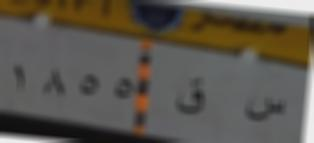1: (9, 60, 28, 96)
5: (78, 67, 100, 102), (111, 74, 134, 106)
8: (38, 66, 67, 105)
qaaf: (175, 75, 208, 119)
seen: (242, 88, 287, 128)
